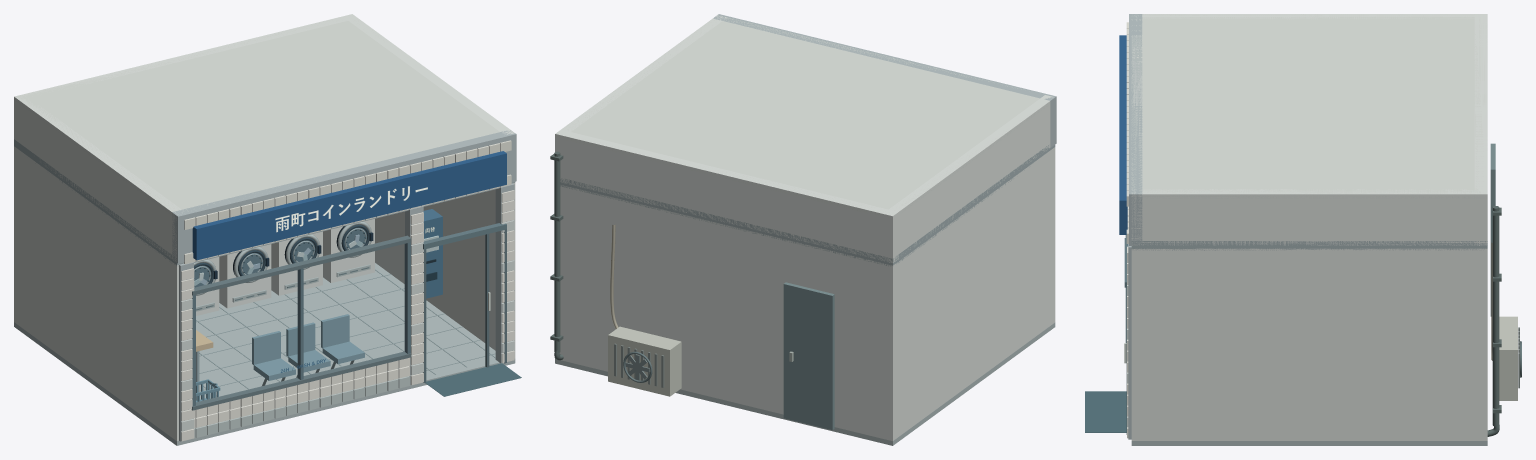
The model's file is laundry.glb.
The picture shows the model from 3 angles, left to right: view 1: azimuth 30°, elevation 25°; view 2: azimuth 150°, elevation 25°; view 3: azimuth 270°, elevation 25°; orthographic projection. The views are drawn at different scales.
Parts seen in each view (by area): view 1: 投币洗衣店; view 2: 投币洗衣店; view 3: 投币洗衣店.
Boxes of the visible parts, box(x1,y1,x2,y2) form: 投币洗衣店: box(14, 14, 521, 445); 投币洗衣店: box(550, 14, 1056, 445); 投币洗衣店: box(1085, 14, 1521, 445).
Bounding box in the file's own units: 6 × 3.9 × 6.14.
Materials: 73 (11 with a texture image).
